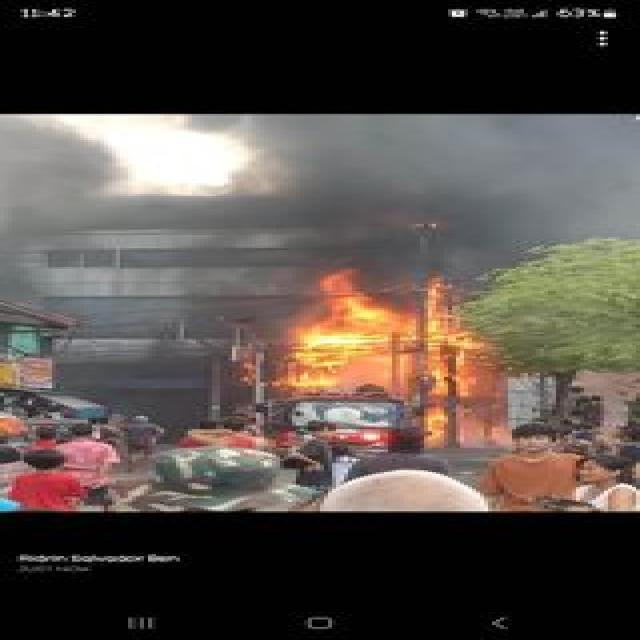Fire: (283, 270, 462, 376)
Smoke: (190, 109, 624, 247), (9, 113, 132, 287)
